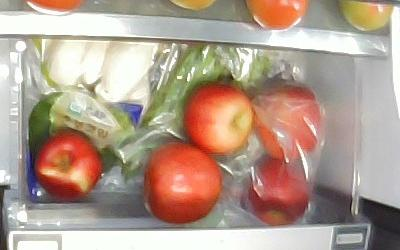apple: (144, 141, 222, 225), (33, 131, 103, 201), (183, 83, 252, 154)
apple_vinyl: (251, 85, 321, 161), (249, 155, 308, 225)
